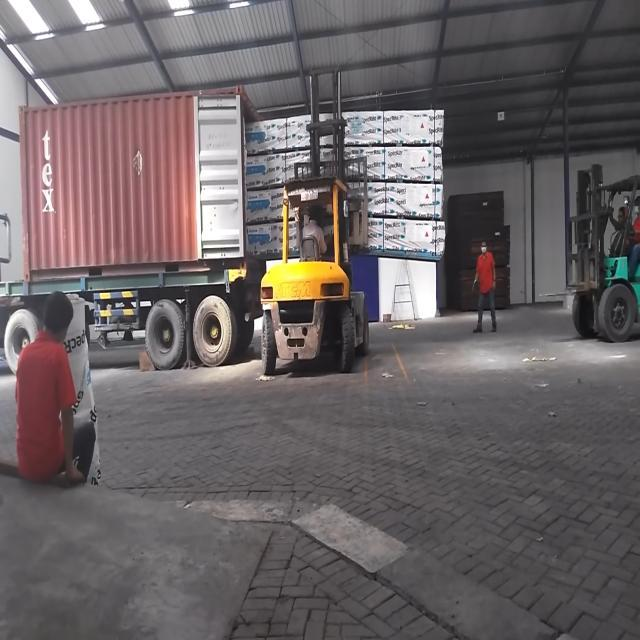driver: (300, 206, 328, 256), (619, 207, 640, 262)
forklift: (260, 157, 372, 380), (564, 164, 640, 348)
person: (13, 286, 98, 490), (474, 235, 500, 338)
